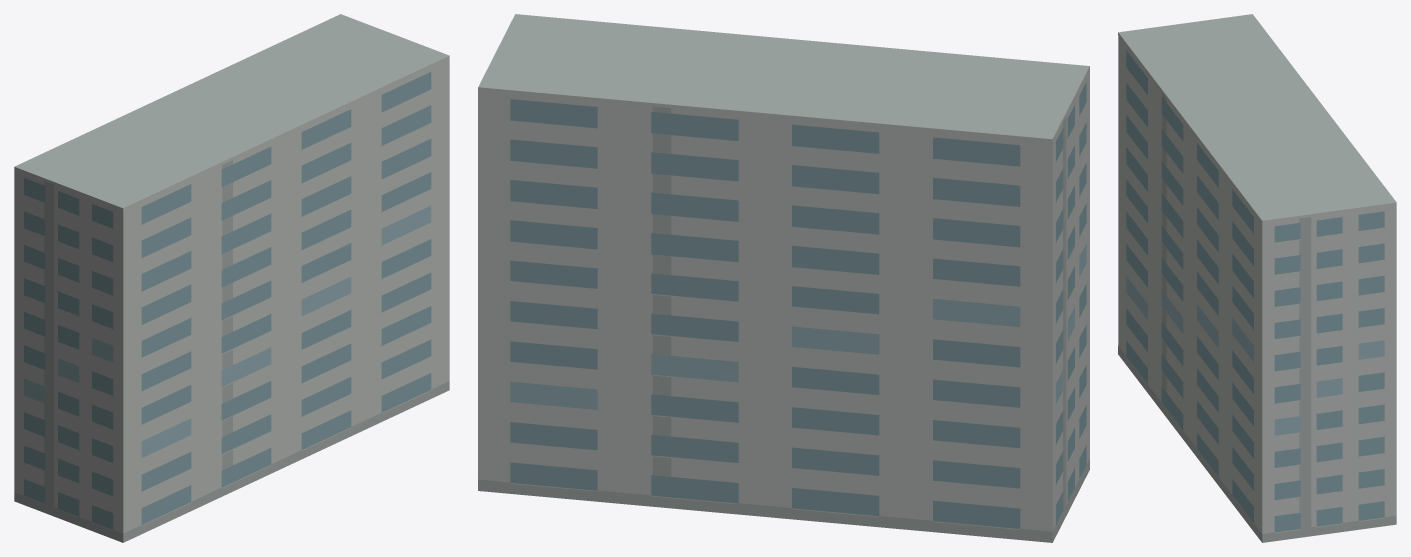
Rendered from residential-dafe16d7-3ebd-431c-8f8b-4e11bf9b8fdf.glb.
3 renders of one model, left to right at view 1: azimuth 30°, elevation 25°; view 2: azimuth 150°, elevation 25°; view 3: azimuth 270°, elevation 25°, orthographic. The views are drawn at different scales.
Visible parts, largest first — view 1: residential-dafe16d7-3ebd-431c-8f8b-4e11bf9b8fdf.tmp; view 2: residential-dafe16d7-3ebd-431c-8f8b-4e11bf9b8fdf.tmp; view 3: residential-dafe16d7-3ebd-431c-8f8b-4e11bf9b8fdf.tmp.
Part boxes in pixels (bbox=[...]): residential-dafe16d7-3ebd-431c-8f8b-4e11bf9b8fdf.tmp: bbox=[14, 14, 449, 542]; residential-dafe16d7-3ebd-431c-8f8b-4e11bf9b8fdf.tmp: bbox=[478, 14, 1089, 542]; residential-dafe16d7-3ebd-431c-8f8b-4e11bf9b8fdf.tmp: bbox=[1118, 14, 1396, 542].
Size of the model in its own units: 38.58 by 28 by 21.96.
